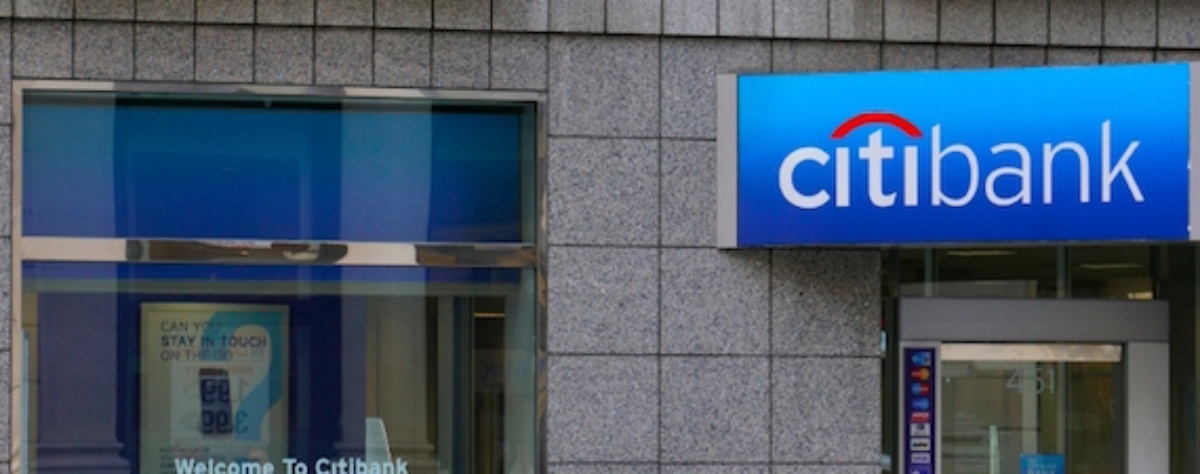text: (785, 118, 800, 213), (801, 118, 816, 213), (817, 118, 832, 213), (833, 118, 848, 213), (849, 118, 864, 213), (865, 118, 880, 213), (881, 118, 896, 213), (897, 118, 912, 213), (913, 118, 928, 213), (929, 118, 944, 213), (945, 118, 960, 213), (961, 118, 976, 213), (977, 118, 992, 213), (993, 118, 1008, 213), (1009, 118, 1024, 213), (1025, 118, 1040, 213), (1041, 118, 1056, 213), (1057, 118, 1072, 213), (1073, 118, 1088, 213), (1089, 118, 1104, 213), (1105, 118, 1120, 213), (1121, 118, 1136, 213), (1137, 118, 1150, 213), (775, 118, 784, 213), (913, 424, 928, 470), (1009, 367, 1024, 401), (1041, 367, 1056, 401), (209, 378, 224, 409), (225, 378, 240, 409), (209, 409, 224, 439), (225, 409, 240, 439), (1030, 367, 1040, 401), (198, 378, 208, 409), (241, 378, 251, 409), (198, 409, 208, 439), (241, 409, 251, 439), (906, 424, 912, 470), (929, 424, 935, 470), (177, 458, 192, 474), (193, 458, 208, 474), (209, 458, 224, 474), (225, 458, 240, 474), (241, 458, 256, 474), (257, 458, 272, 474), (273, 458, 288, 474), (289, 458, 304, 474), (305, 458, 320, 474), (321, 458, 336, 474), (337, 458, 352, 474), (353, 458, 368, 474), (369, 458, 384, 474), (385, 458, 400, 474), (161, 335, 176, 350), (177, 335, 192, 350), (225, 335, 240, 350), (241, 335, 256, 350), (161, 350, 176, 365), (193, 350, 208, 365), (209, 350, 224, 365), (193, 321, 208, 335), (209, 321, 224, 335), (257, 335, 270, 350), (161, 321, 176, 333), (225, 350, 236, 365), (401, 458, 411, 474), (177, 321, 190, 333), (198, 335, 208, 350), (182, 350, 192, 365), (209, 335, 217, 350), (169, 458, 176, 474), (1005, 367, 1008, 401), (1025, 367, 1028, 401), (219, 335, 224, 350), (177, 350, 182, 365), (1057, 367, 1059, 401), (193, 335, 196, 350)
